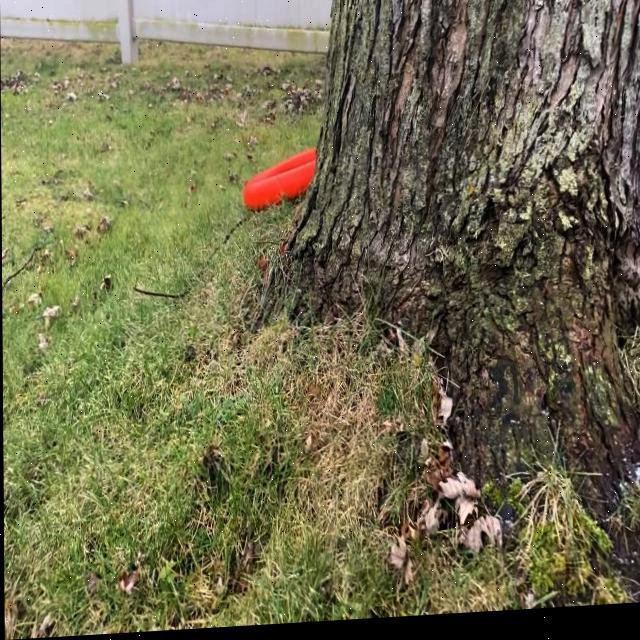note: (240, 146, 322, 222)
